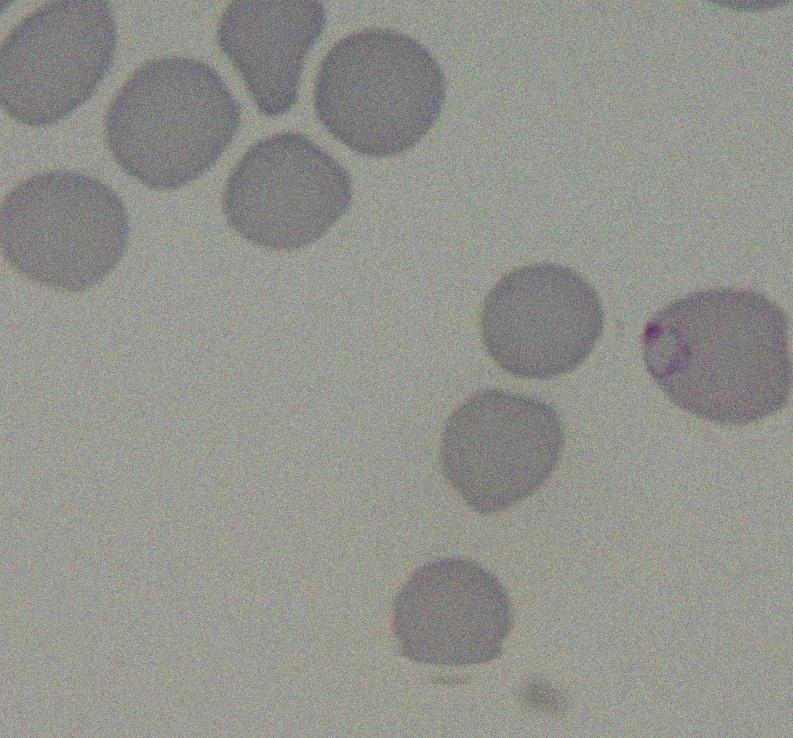Infected: (644, 285, 793, 430)
Uninfected: (100, 59, 240, 191), (314, 27, 443, 158), (0, 169, 131, 294), (438, 389, 561, 516), (224, 131, 349, 250), (0, 0, 116, 126), (480, 265, 603, 382), (392, 555, 512, 671), (214, 0, 327, 118)
